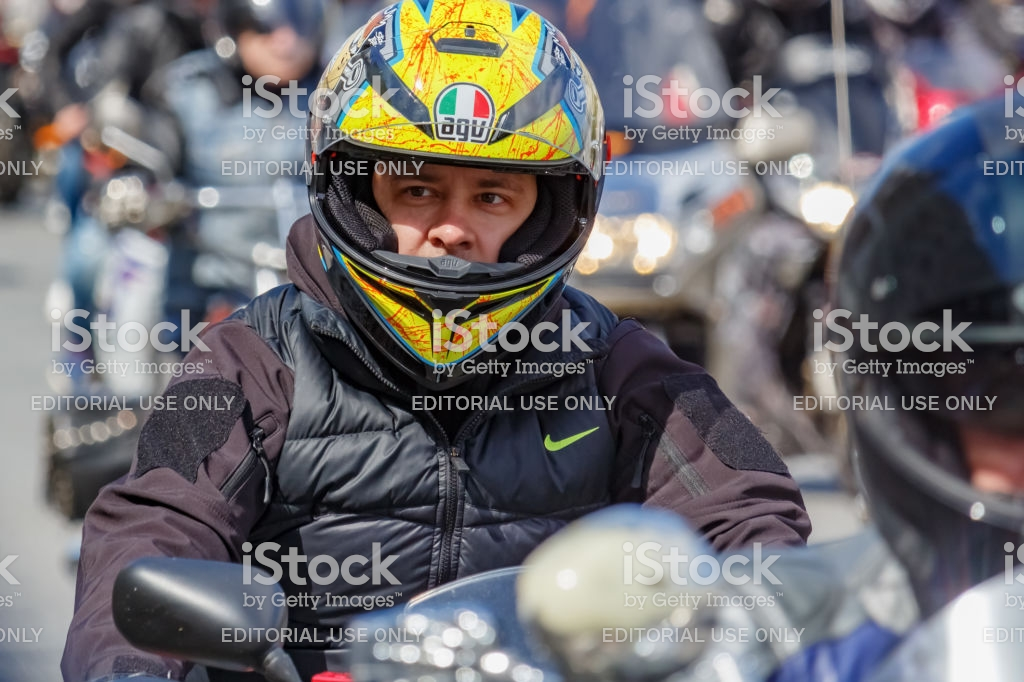helmet: (310, 12, 602, 354)
